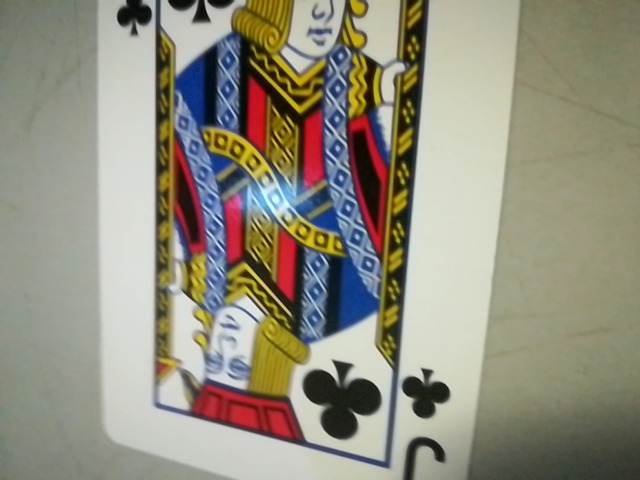mh j: (386, 362, 465, 479)
